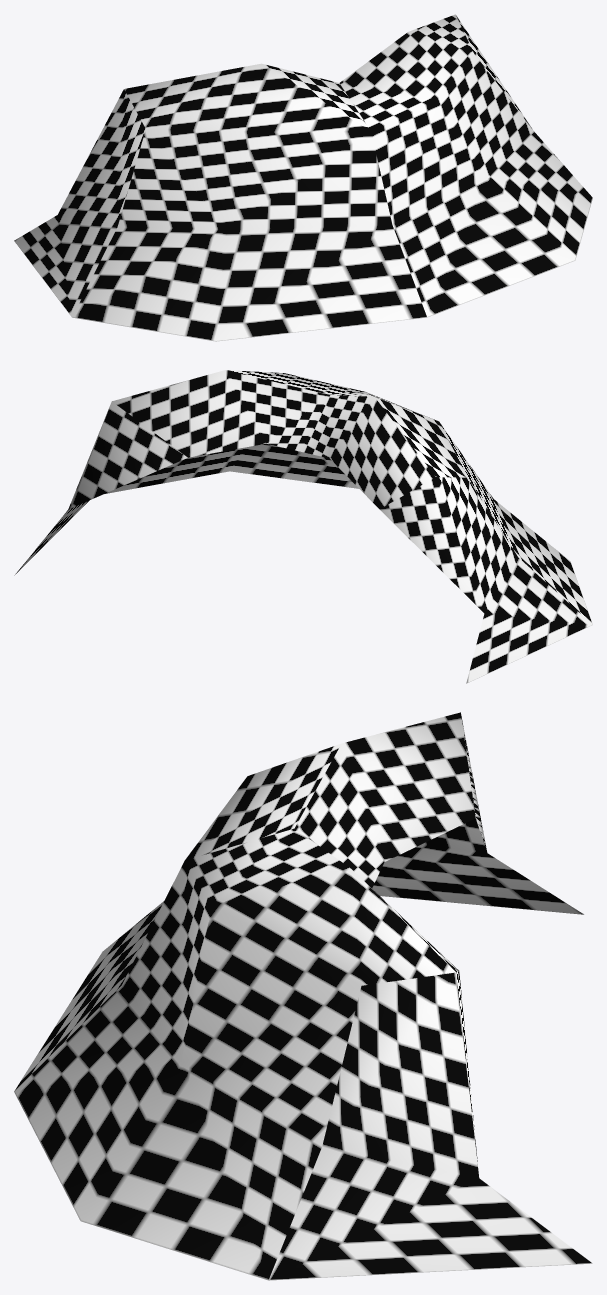
Rendered from nast4.dae.
3 renders of one model, top to bottom at view 1: azimuth 30°, elevation 25°; view 2: azimuth 150°, elevation 25°; view 3: azimuth 270°, elevation 25°, orthographic. The views are drawn at different scales.
Visible parts, largest first — view 1: rockgreen01; view 2: rockgreen01; view 3: rockgreen01.
Part boxes in pixels (x1=…): rockgreen01: x1=14, y1=14, x2=592, y2=341; rockgreen01: x1=14, y1=370, x2=592, y2=683; rockgreen01: x1=14, y1=712, x2=592, y2=1280.
Size of the model in its own units: 5.44 by 3.39 by 1.95.
1 material, 1 textured.
